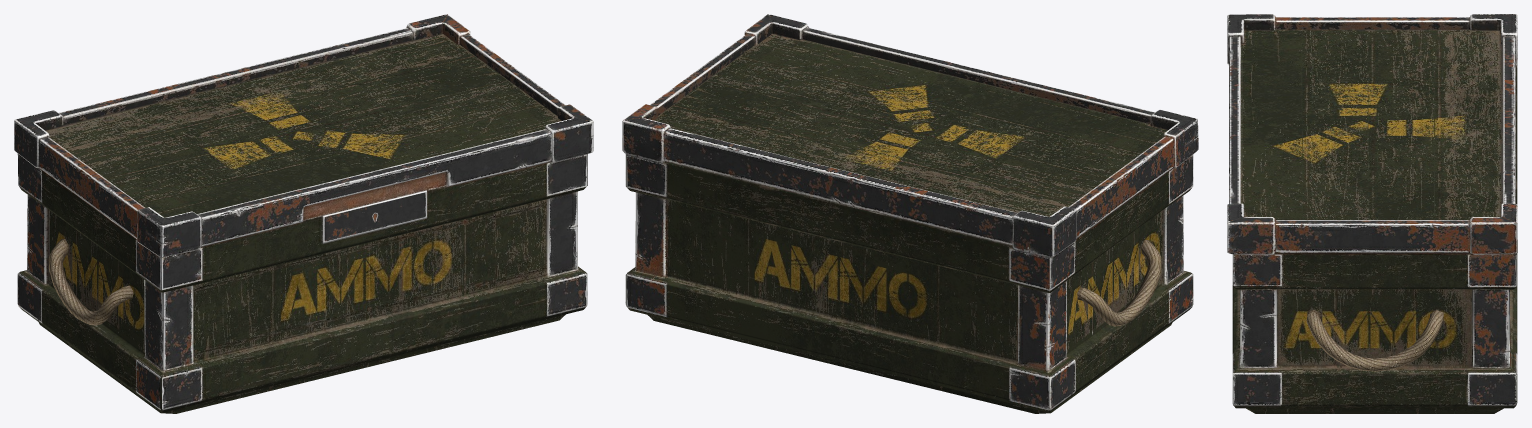
The model's file is wood_box_large.glb.
The picture shows the model from 3 angles, left to right: view 1: azimuth 30°, elevation 25°; view 2: azimuth 150°, elevation 25°; view 3: azimuth 270°, elevation 25°; orthographic projection.
Visible parts, largest first — view 1: box.wooden.large.model_LOD0; view 2: box.wooden.large.model_LOD0; view 3: box.wooden.large.model_LOD0.
Part boxes in pixels (x1=…): box.wooden.large.model_LOD0: x1=14, y1=14, x2=593, y2=413; box.wooden.large.model_LOD0: x1=622, y1=14, x2=1198, y2=413; box.wooden.large.model_LOD0: x1=1227, y1=14, x2=1517, y2=413.
Size of what is drawn, in the model's own units: 1.87 by 0.7905 by 1.05.
1 material, 1 textured.
